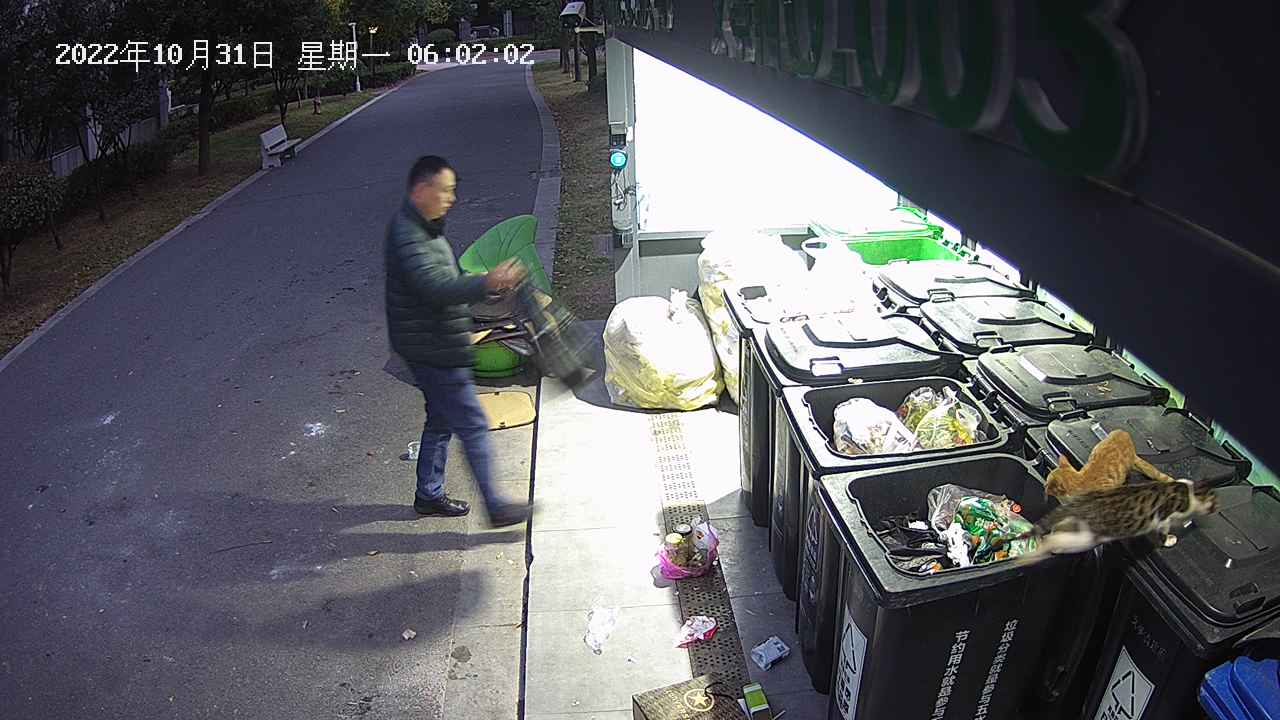garbage: (601, 286, 725, 414)
garbage-bag: (501, 269, 607, 392), (656, 514, 720, 580)
lvzhipin: (743, 679, 770, 719)
person: (380, 155, 537, 529)
suliaozhipin: (673, 612, 719, 648)
zhizhipin: (630, 670, 744, 719), (750, 632, 793, 674)
